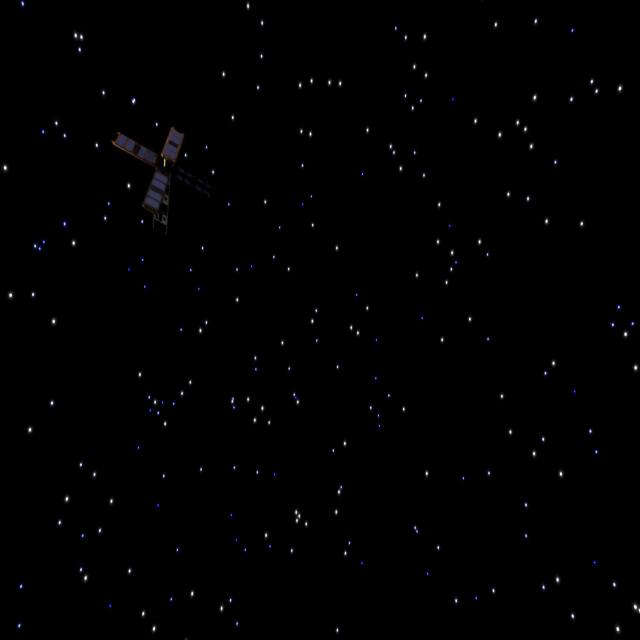satellite: (111, 127, 210, 233)
